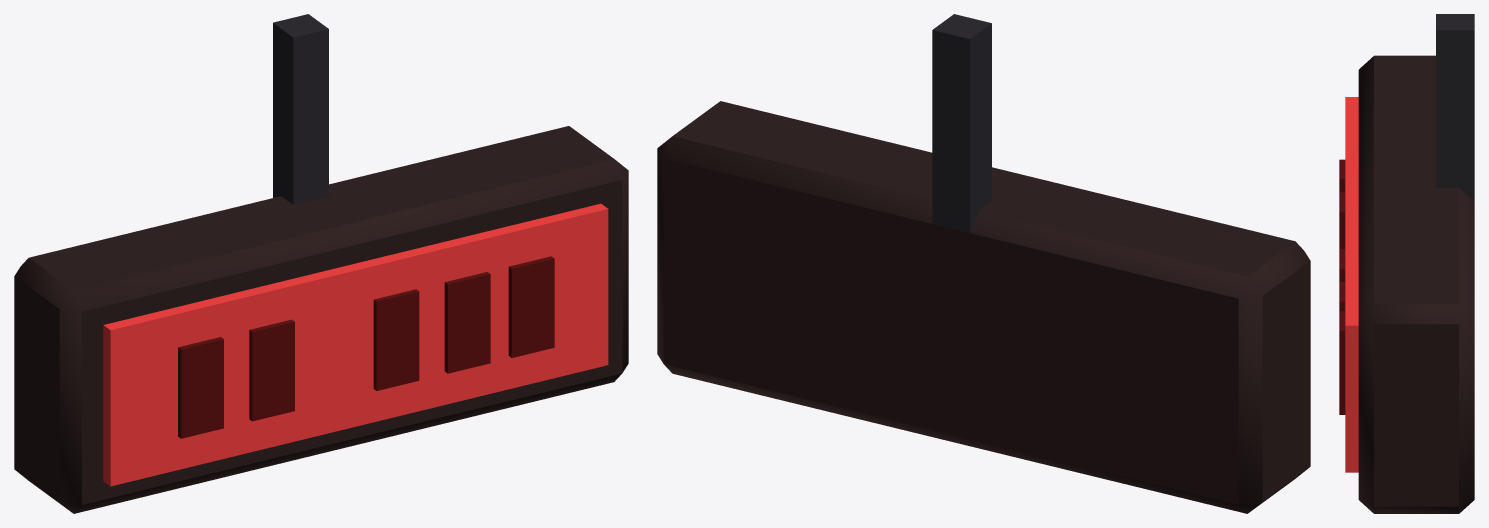
Rendered from on_air_light.glb.
3 views of the same model, side by side, from view 1: azimuth 30°, elevation 25°; view 2: azimuth 150°, elevation 25°; view 3: azimuth 270°, elevation 25° (orthographic). The views are drawn at different scales.
Visible parts, largest first — view 1: on_air_light; view 2: on_air_light; view 3: on_air_light.
Boxes of the visible parts, x1,y1,x2,y2 form: on_air_light: (14,14,628,513); on_air_light: (657,14,1310,513); on_air_light: (1339,14,1474,513).
Bounding box in the file's own units: 1.6 × 1.05 × 0.35.
